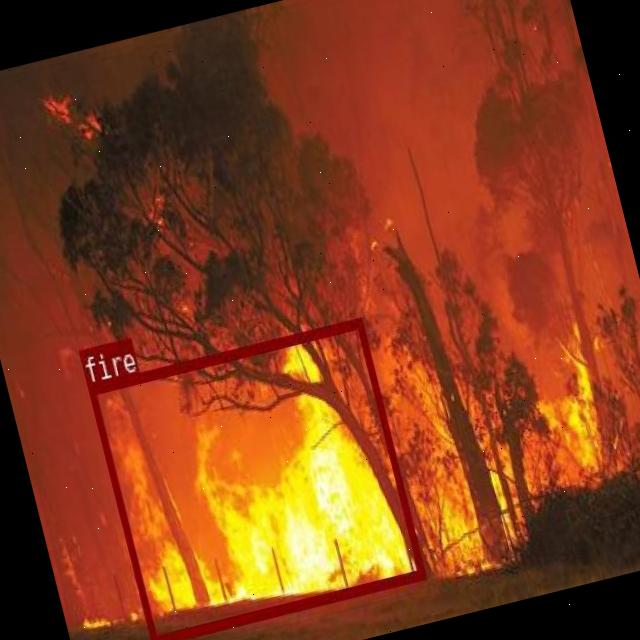fire: (86, 315, 424, 640)
